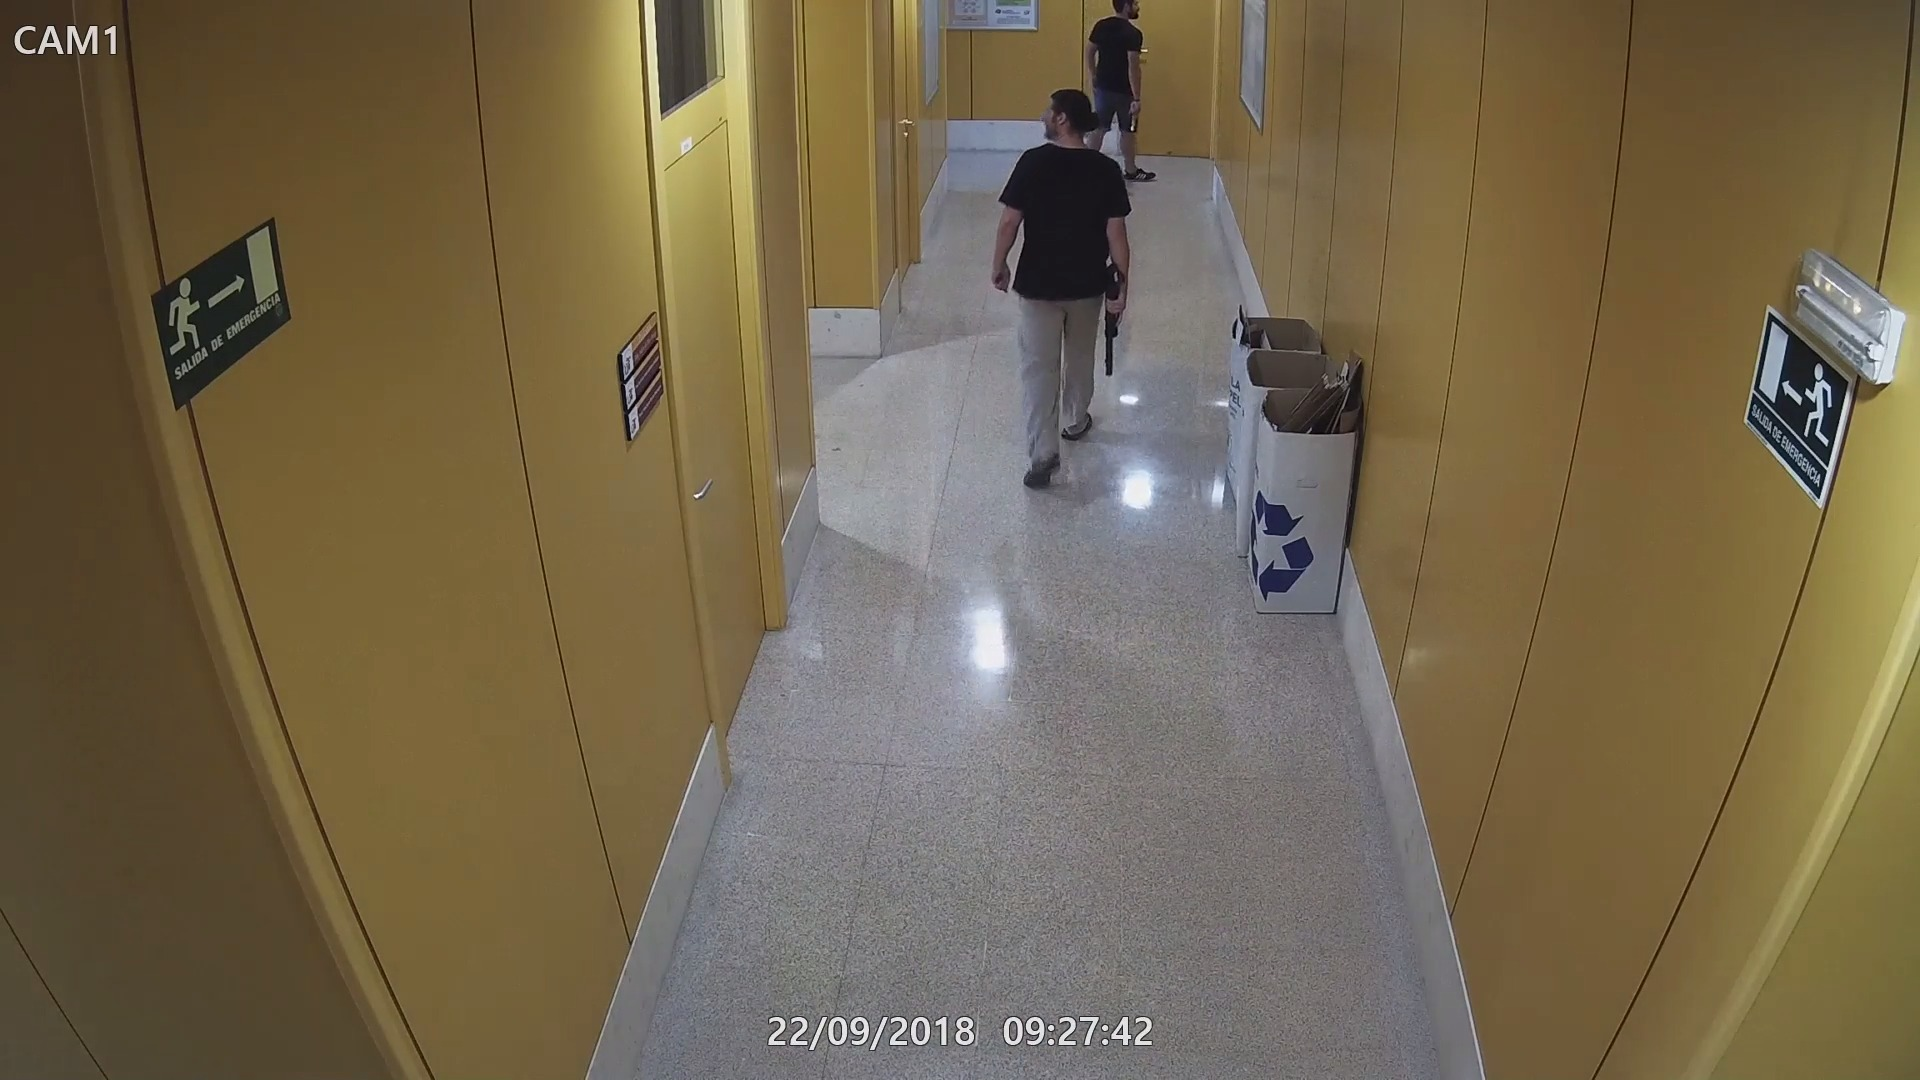Handgun: (1120, 95, 1147, 136)
Short_rifle: (1098, 264, 1125, 378)
